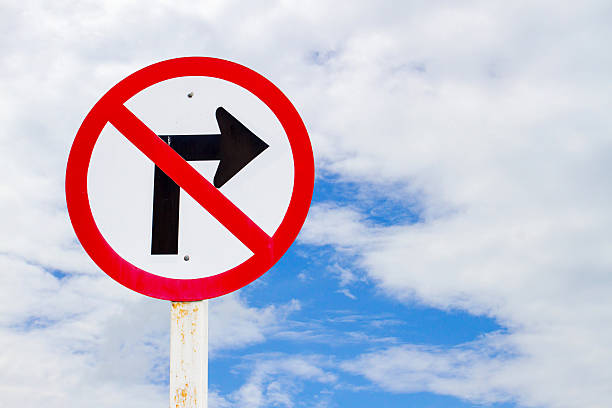saga_girilmez: (68, 58, 318, 292)
